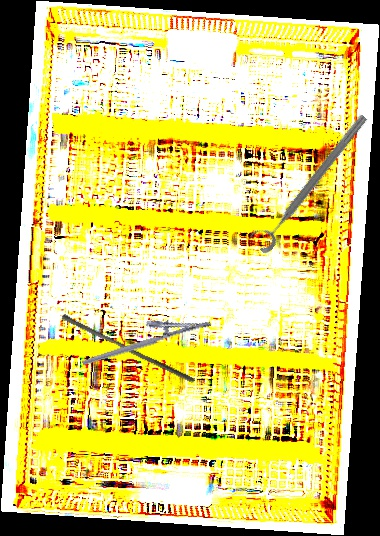Fixation Ring: (245, 105, 372, 256)
Needle Holder: (76, 303, 212, 367)
Pusher: (59, 313, 198, 384)
